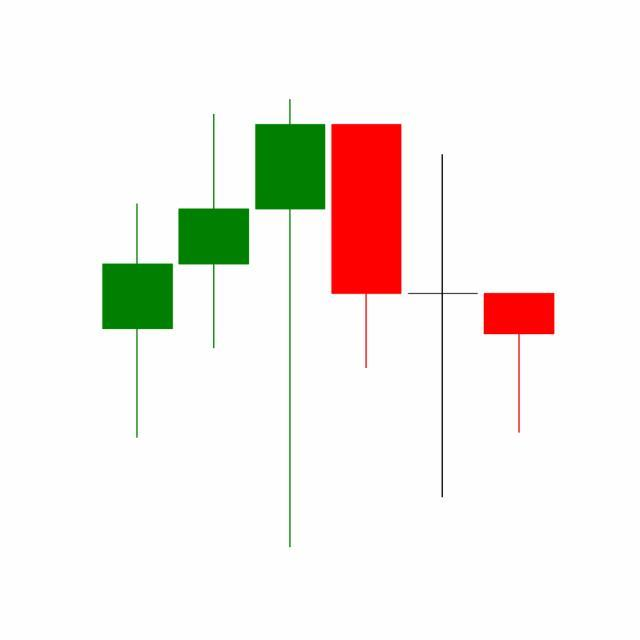Spinning Top: (404, 151, 482, 503)
